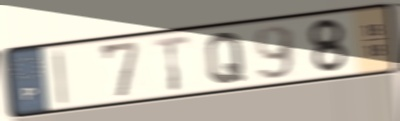7: (96, 39, 144, 100)
8: (307, 15, 351, 76)
9: (253, 23, 299, 81)
I: (50, 46, 71, 109)
Q: (204, 30, 247, 86)
T: (150, 33, 194, 94)
